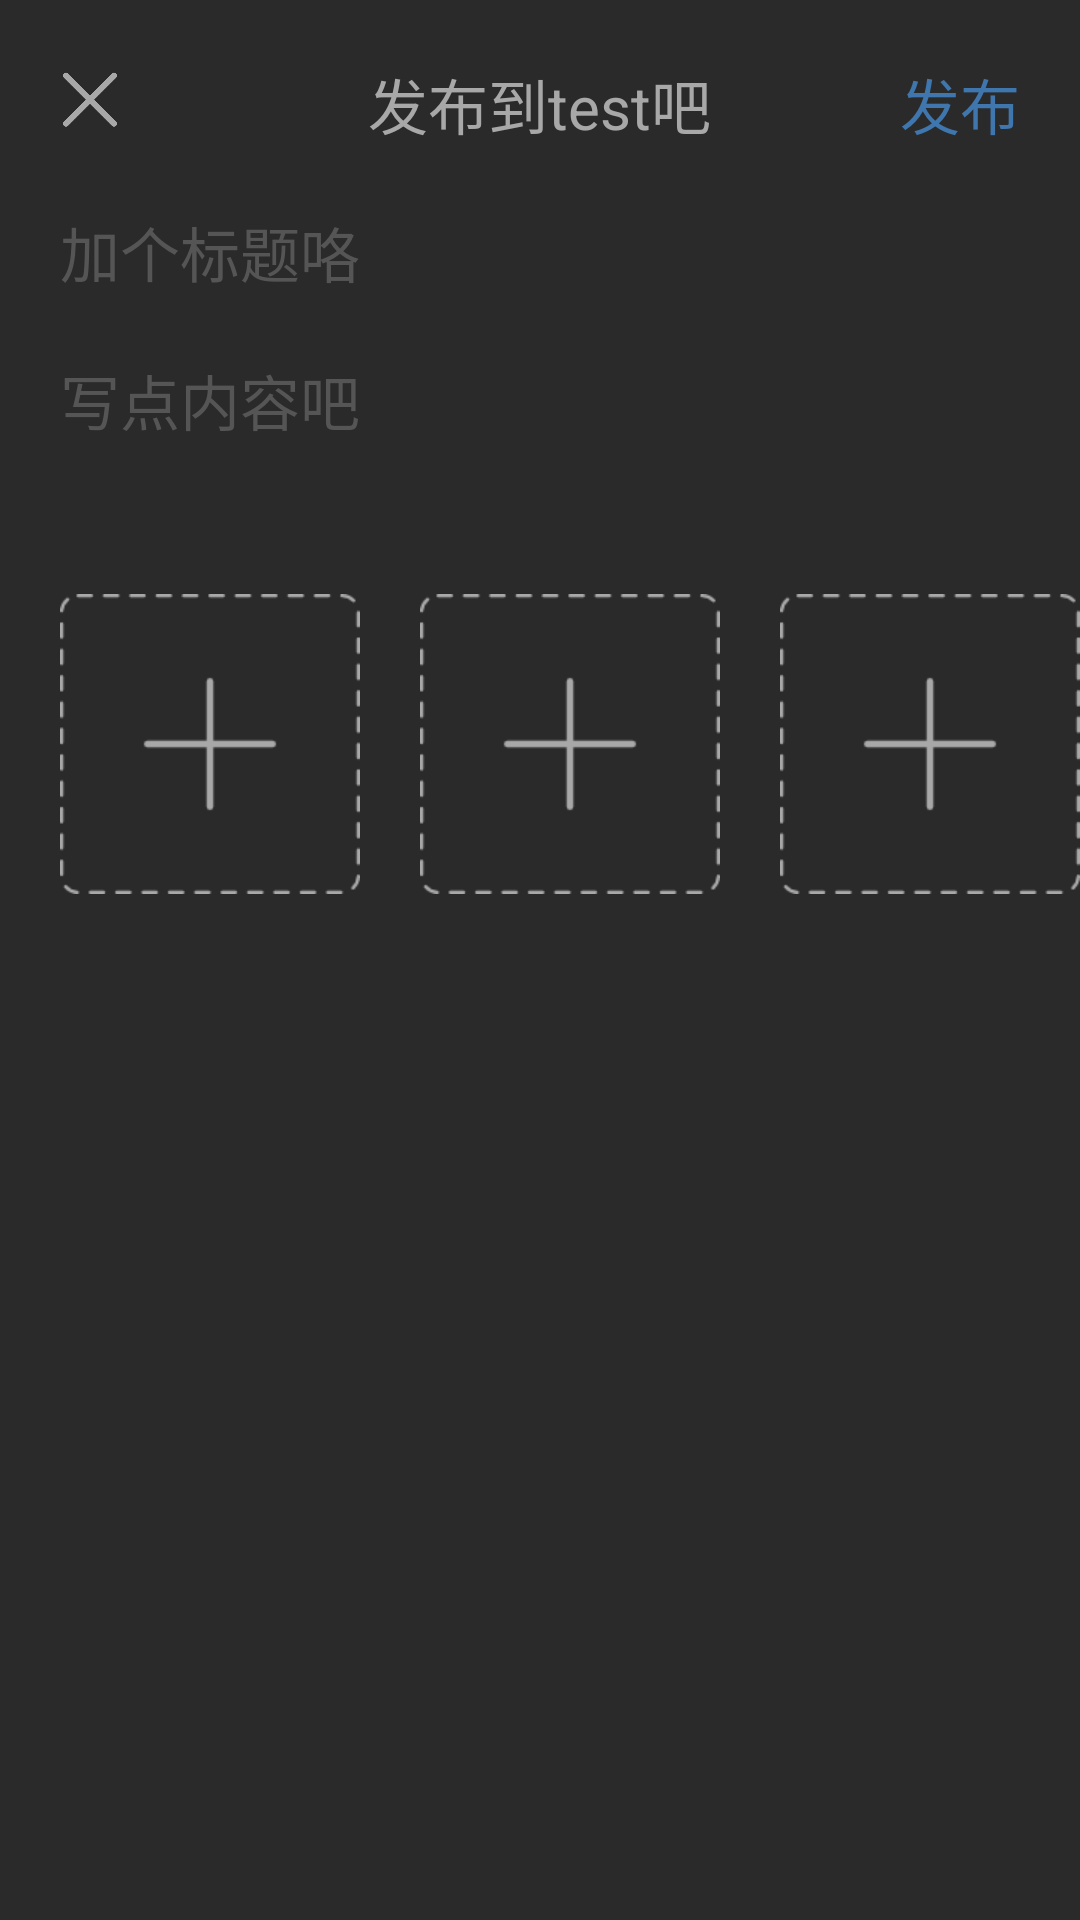

Where icons sit on this 1080px×1920px app screen, as box=[x1, y1, x2, y2]:
addtie: box=[60, 594, 360, 894], box=[420, 594, 720, 894], box=[780, 594, 1080, 894]
close: box=[63, 73, 117, 127]
